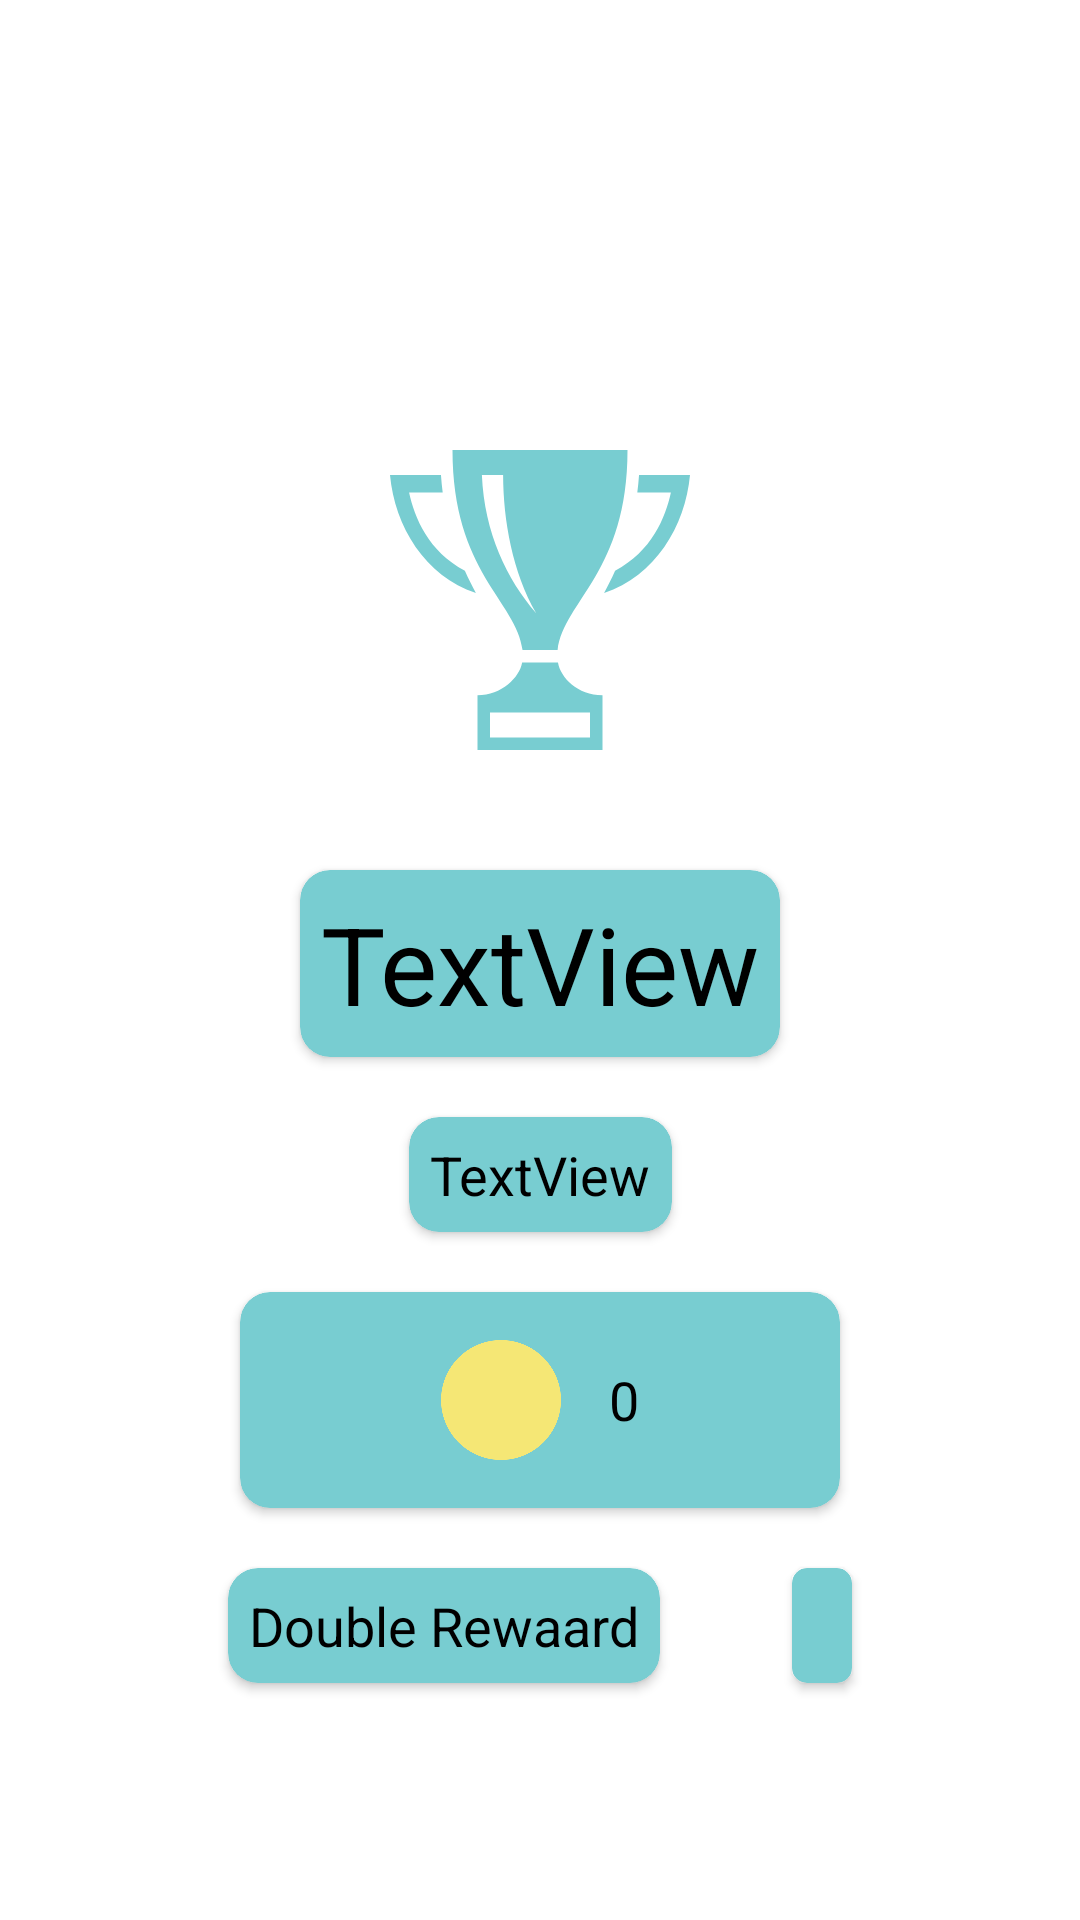

Named icons in this screenshot (1080*1920) and their centers, (x,y):
iconmonstr trophy: (540,600)
